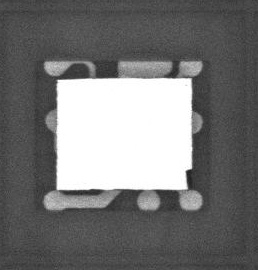DIE_BROKEN: (184, 166, 192, 190)
